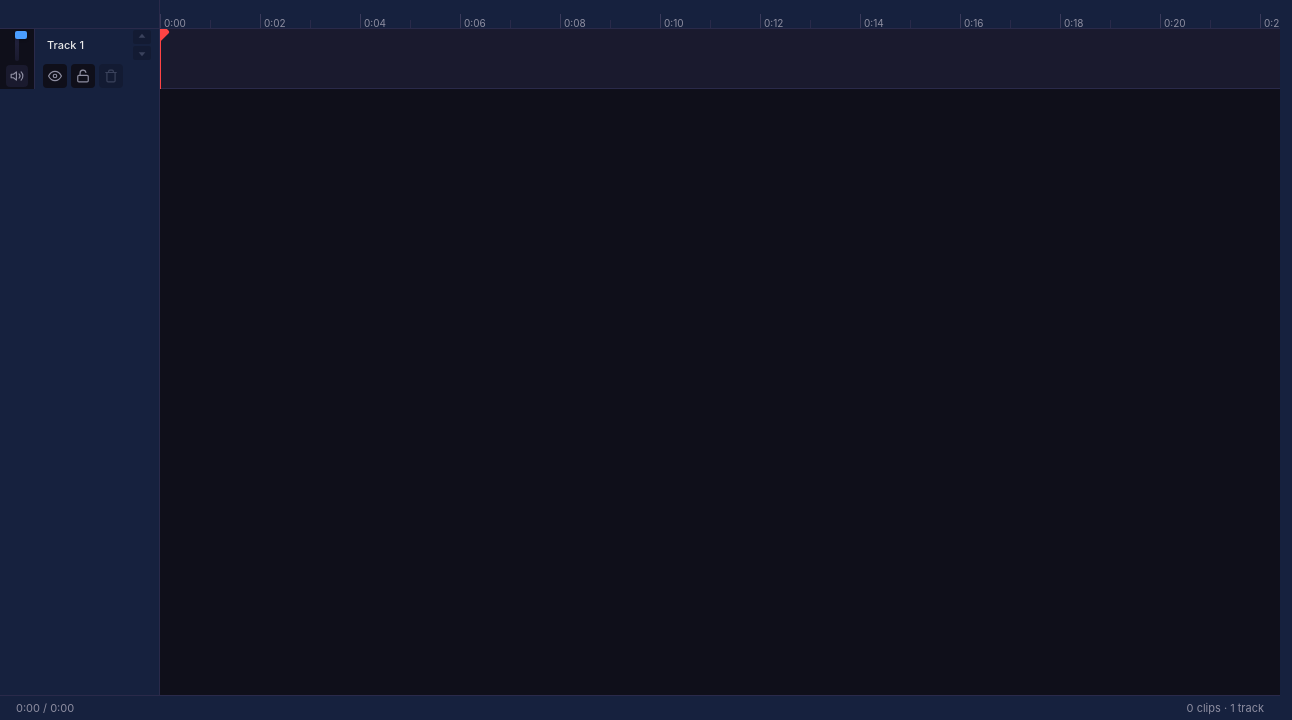
Test: Timeline track headers › abandons a rename on Escape
The width and height of the screenshot is (1292, 720).
Double-click the button "Track 1".
double_click(86, 45)  # box [43,36,129,54]
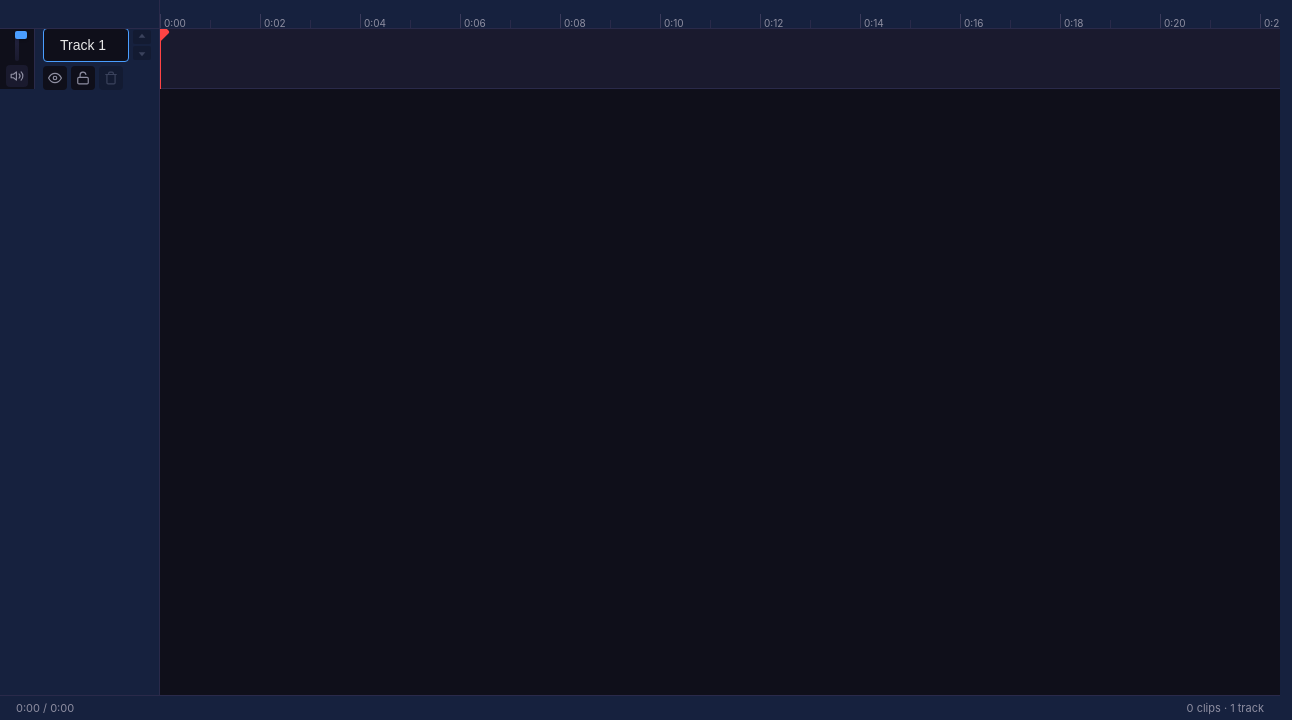
Replace the text in the field with "Nope" at point(86, 45), box [43,28,129,62]
Then press Escape
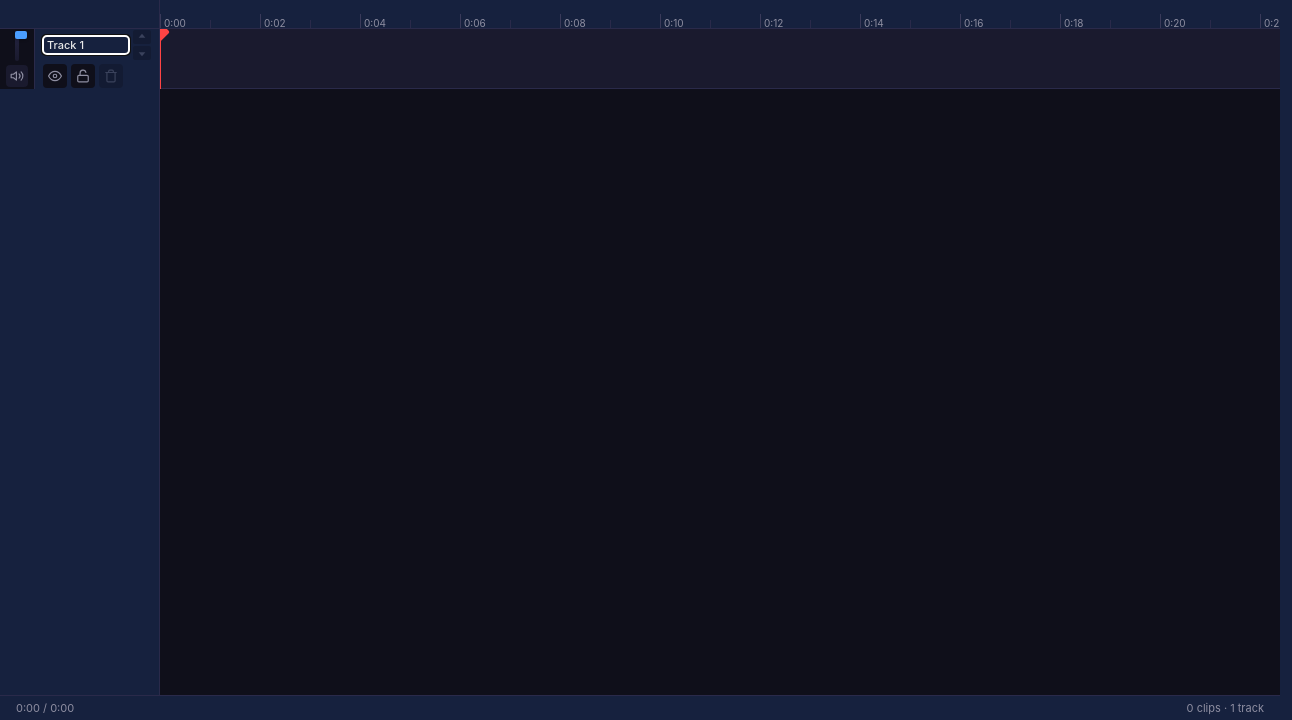
Now the button "Track 1" is shown, box [43,36,129,54]
Now the field is gone
